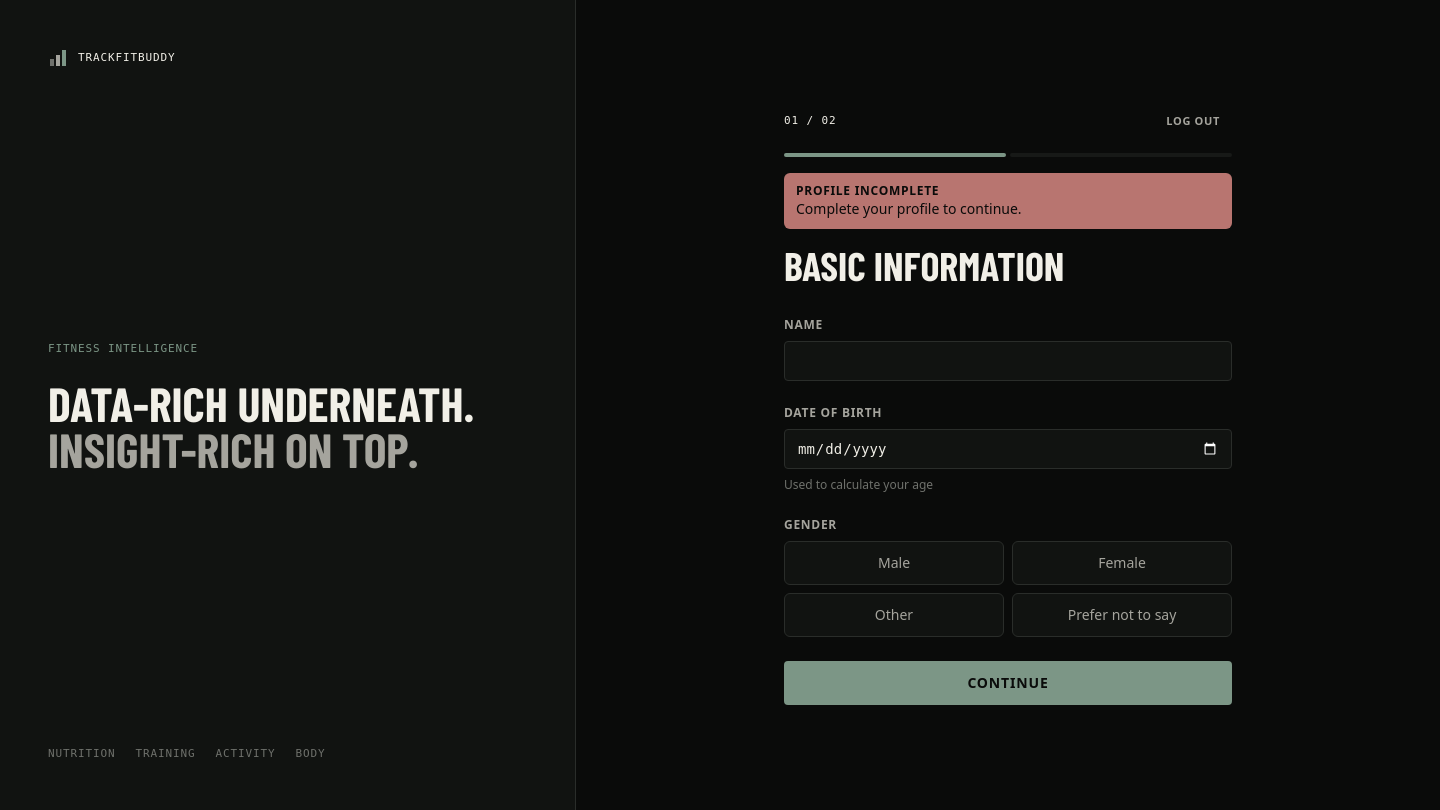
Test case: Onboarding save failures › a network failure says so, without technical detail
Expected: the heading "Basic information" is shown, [784,241,1064,289]
Type "Asha" into the field labelled "Name" at (1008, 361), box [784,341,1232,381]
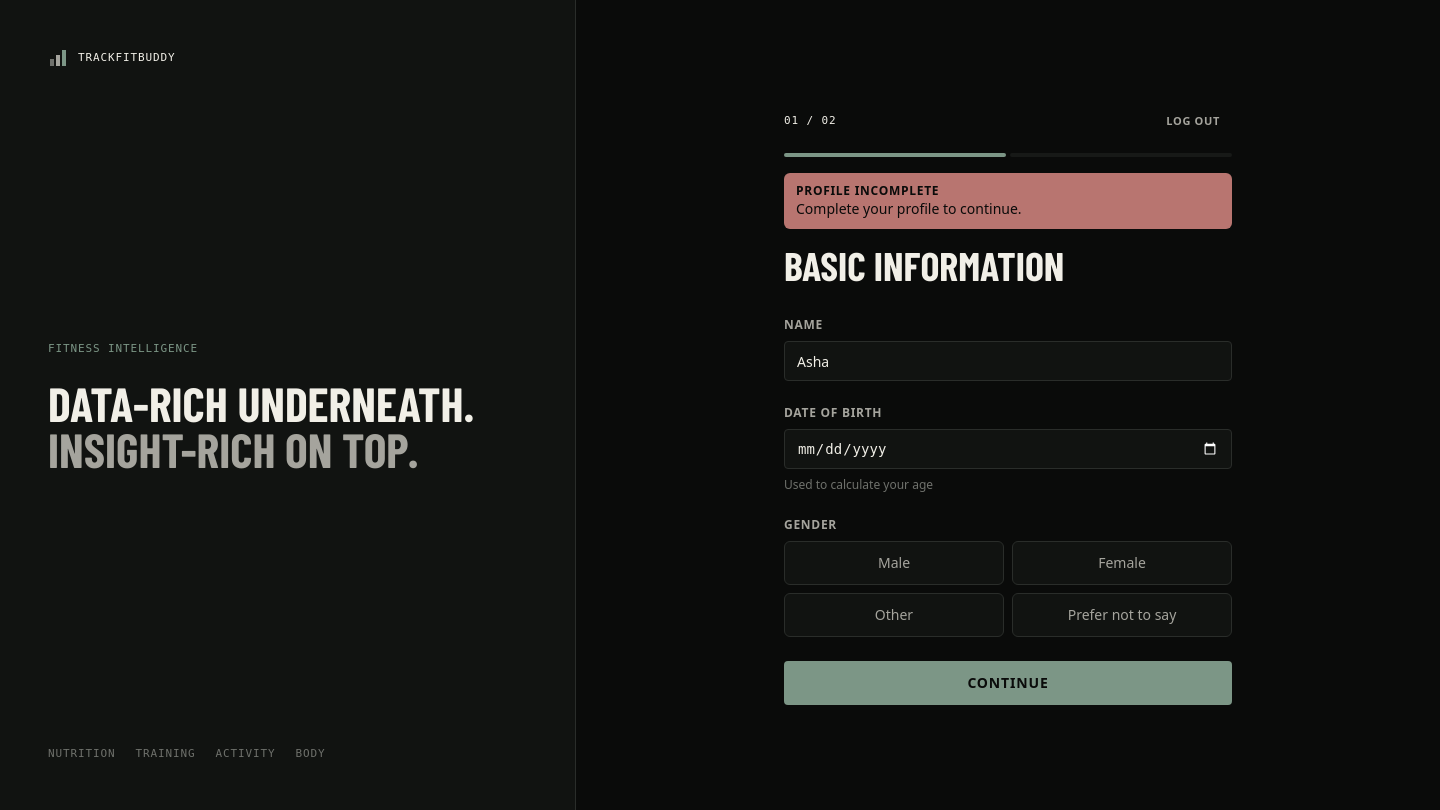
Type "1994-05-17" into the date field labelled "Date of birth" at (1008, 449), box [784,429,1232,469]
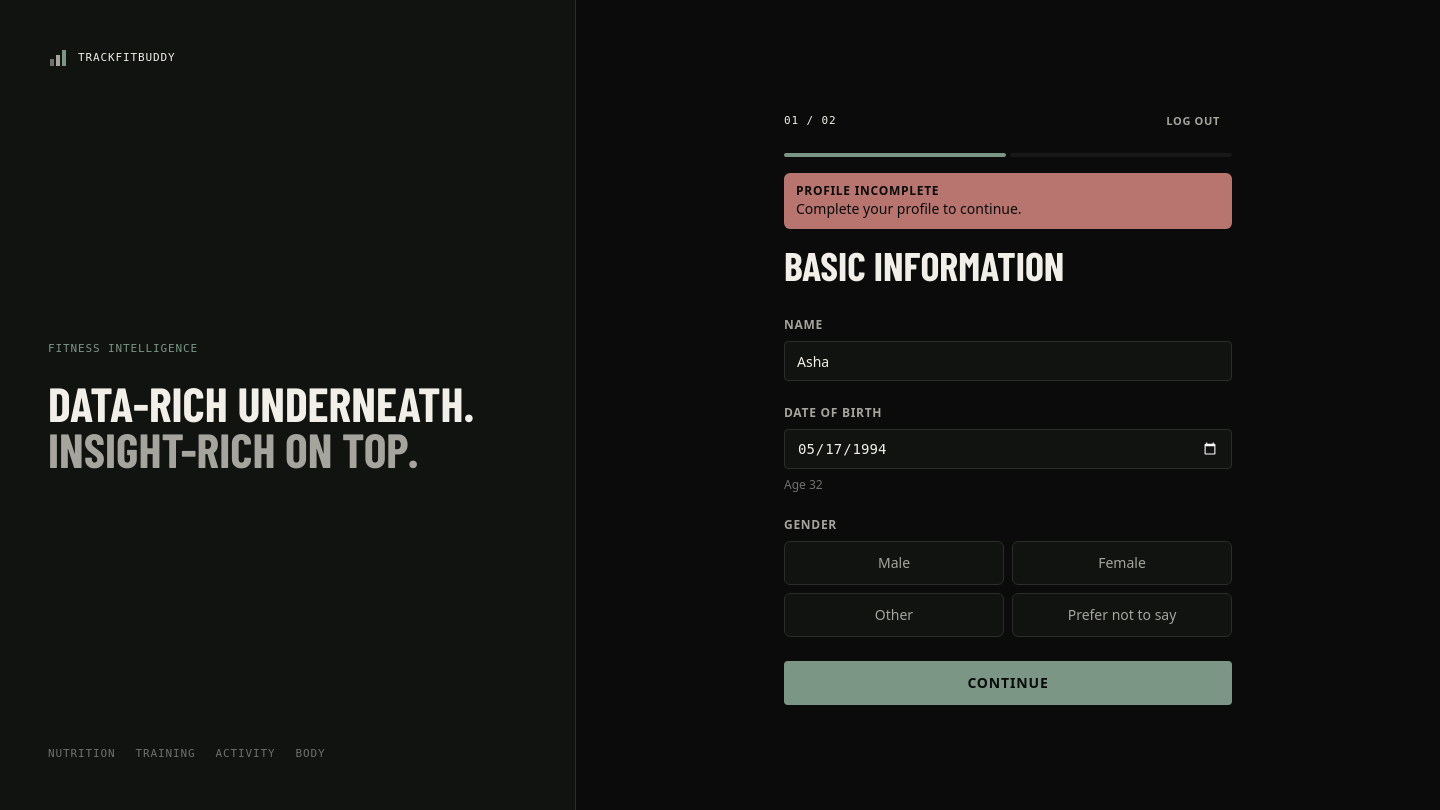
Click the radio button labelled "Female" at (1122, 563), box [1012,541,1232,585]
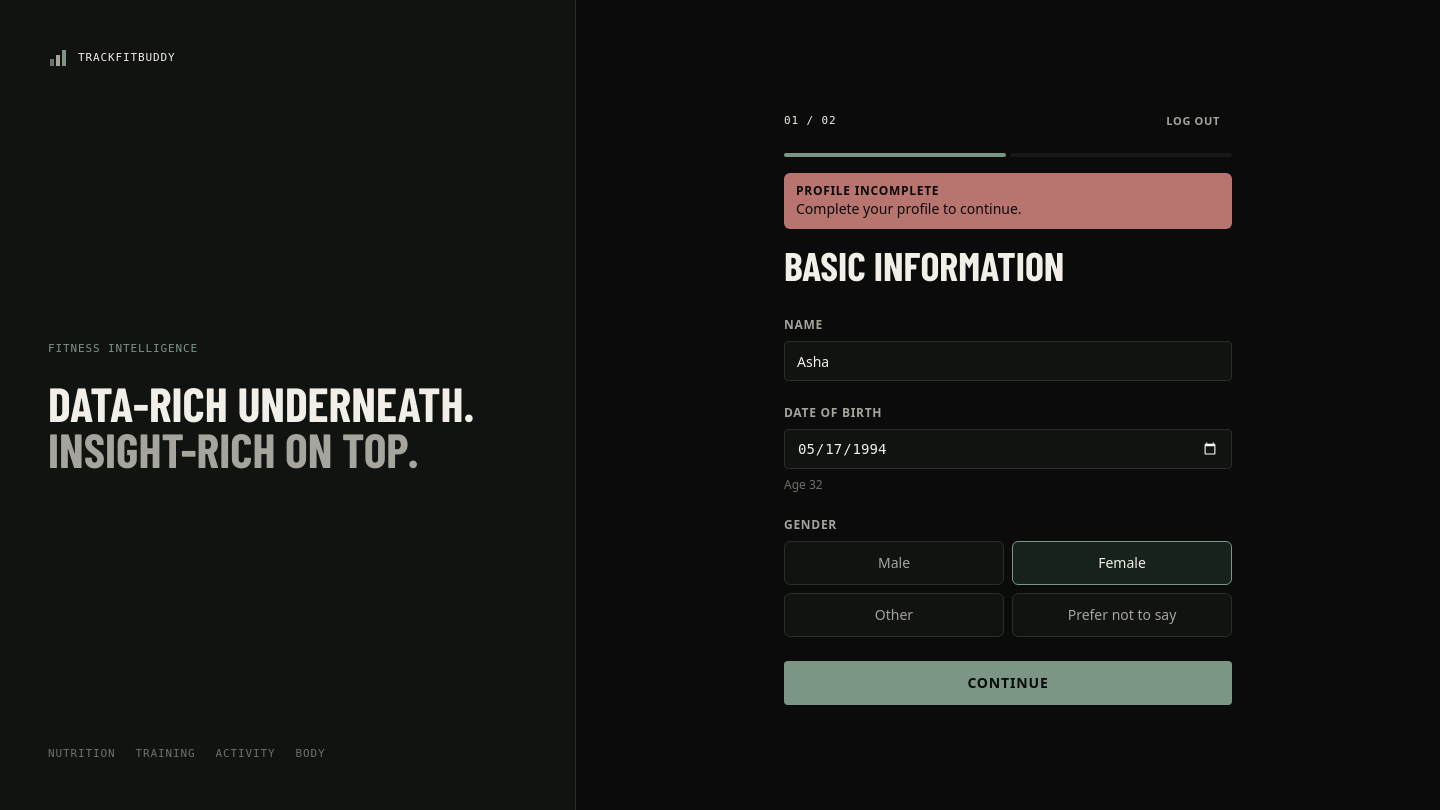
Click the button "Continue" at (1008, 683), box [784,661,1232,705]
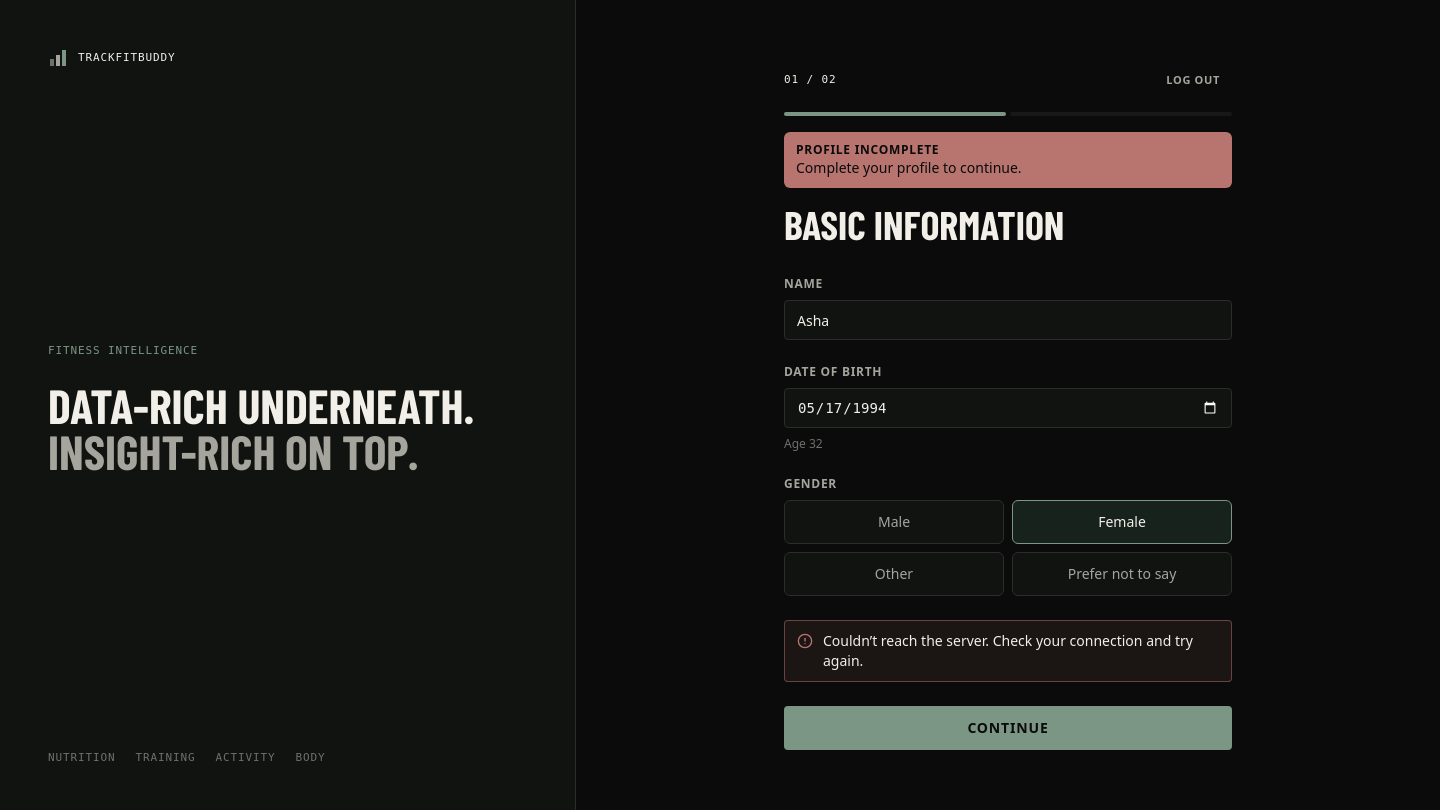
Expected: the message shows "Couldn’t reach the server", [823,631,1193,670]
